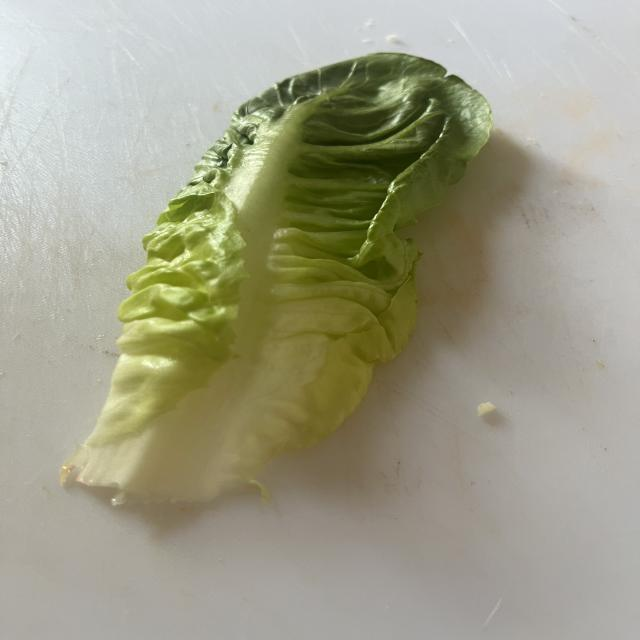lettuce: (61, 53, 492, 502)
